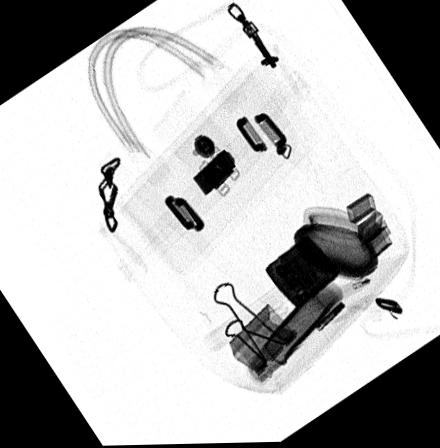Lighter: (263, 235, 340, 311)
